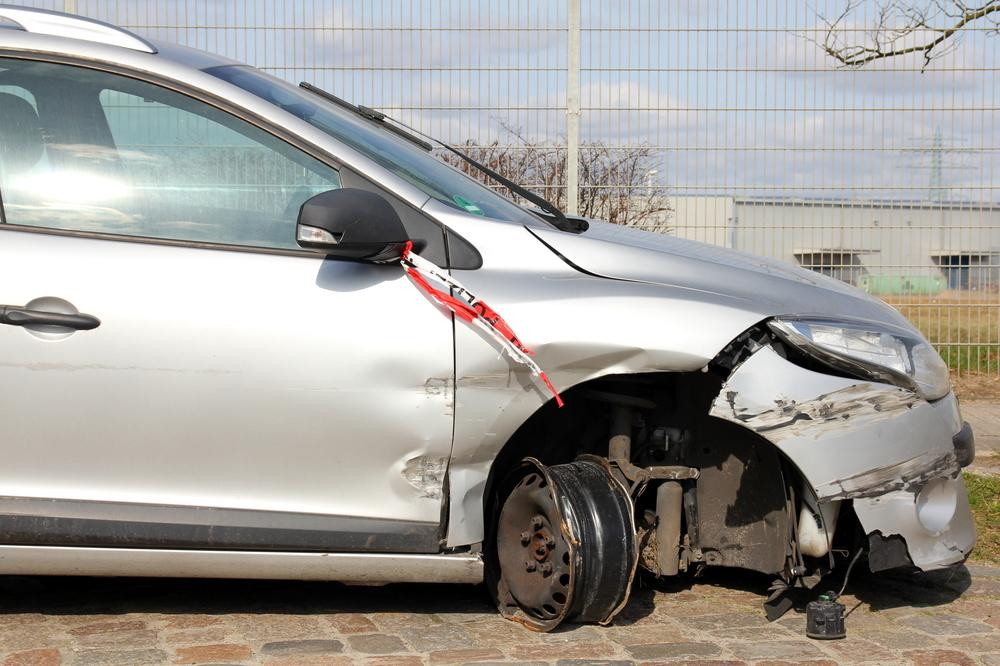dent: (451, 356, 554, 523), (366, 353, 459, 506), (528, 345, 664, 392)
scratch: (709, 385, 921, 446), (819, 452, 961, 502)
